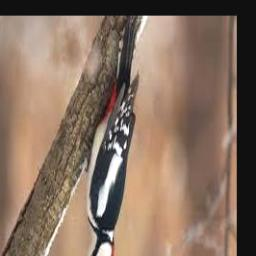Woodpecker: (77, 16, 139, 256)
